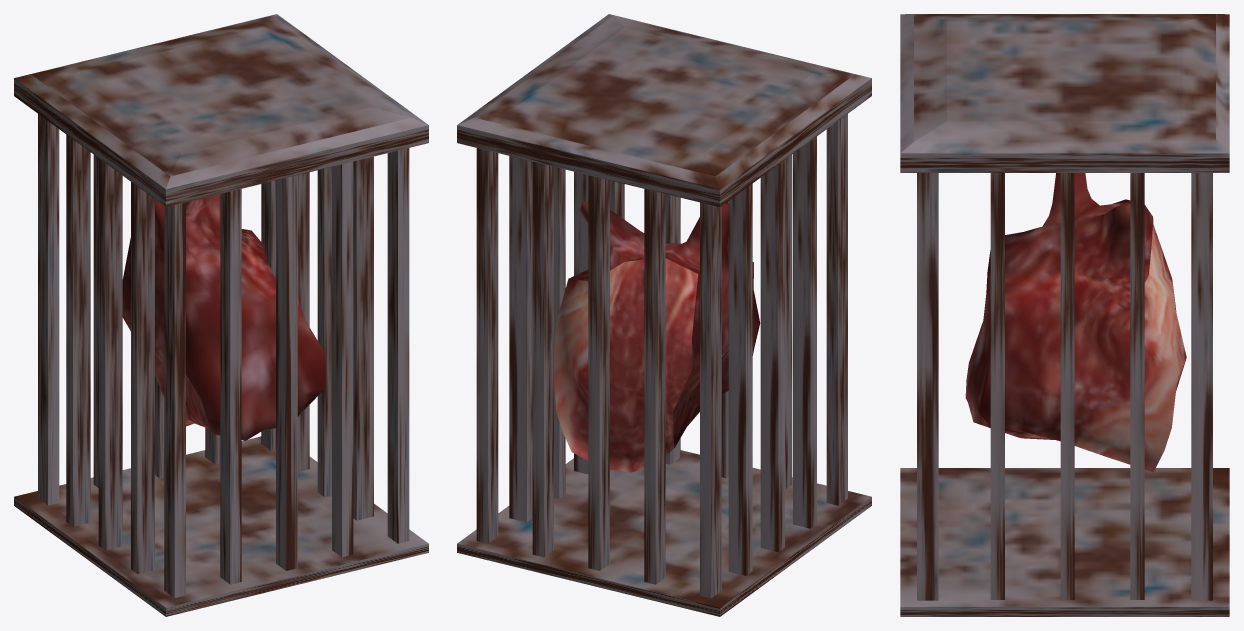
File: CagedHeart.fbx
3 renders of one model, left to right at view 1: azimuth 30°, elevation 25°; view 2: azimuth 150°, elevation 25°; view 3: azimuth 270°, elevation 25°, orthographic. The views are drawn at different scales.
Visible parts, largest first — view 1: Cage, Heart; view 2: Cage, Heart; view 3: Cage, Heart.
Boxes of the visible parts, x1,y1,x2,y2 form: Cage: (14,14,428,616); Heart: (122,194,325,440); Cage: (457,14,871,616); Heart: (554,200,760,472); Cage: (900,14,1229,616); Heart: (965,173,1186,472).
Bounding box in the file's own units: 6 × 9.57 × 6.
